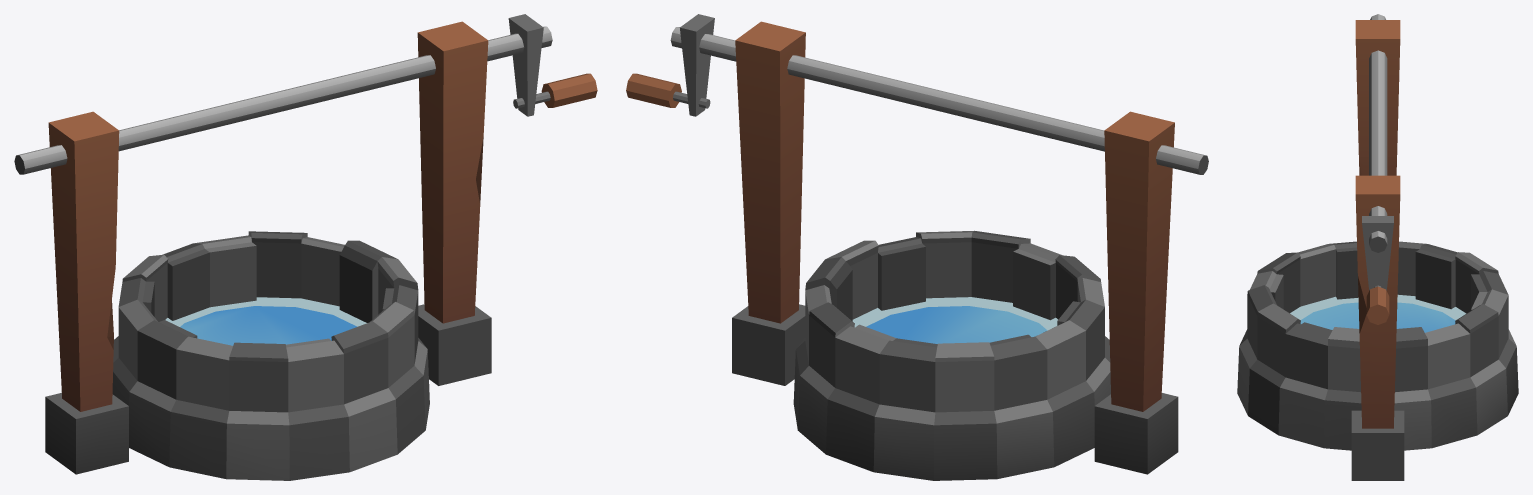
The model's file is farmpack2023well.fbx.
3 views of the same model, side by side, from view 1: azimuth 30°, elevation 25°; view 2: azimuth 150°, elevation 25°; view 3: azimuth 270°, elevation 25° (orthographic). The views are drawn at different scales.
Parts seen in each view (by area): view 1: Cylinder.001; view 2: Cylinder.001; view 3: Cylinder.001.
Part boxes in pixels (box(x1,y1,x2,y2)): Cylinder.001: box(14, 14, 597, 480); Cylinder.001: box(626, 14, 1208, 480); Cylinder.001: box(1237, 14, 1518, 480).
Size of the model in its own units: 1.64 by 3.33 by 1.84.
